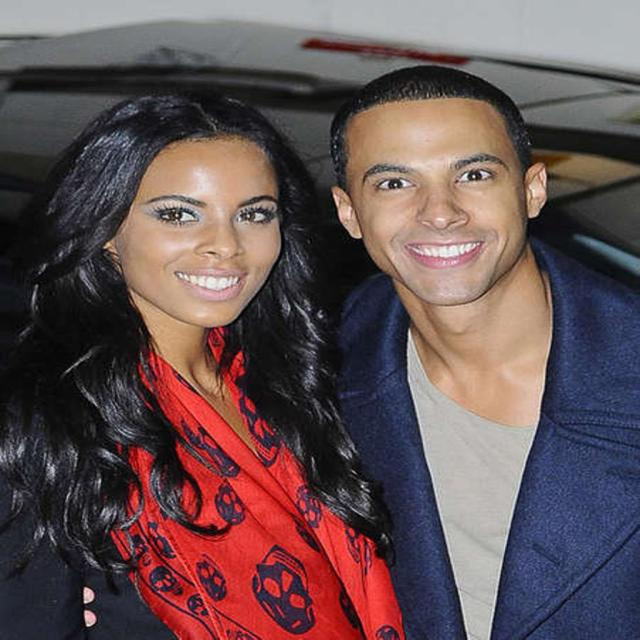Face: (334, 103, 554, 318), (108, 132, 273, 327)
